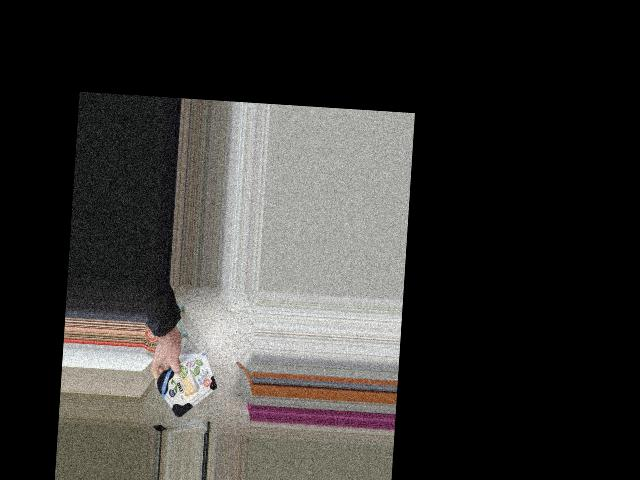cheese: (151, 353, 224, 418)
